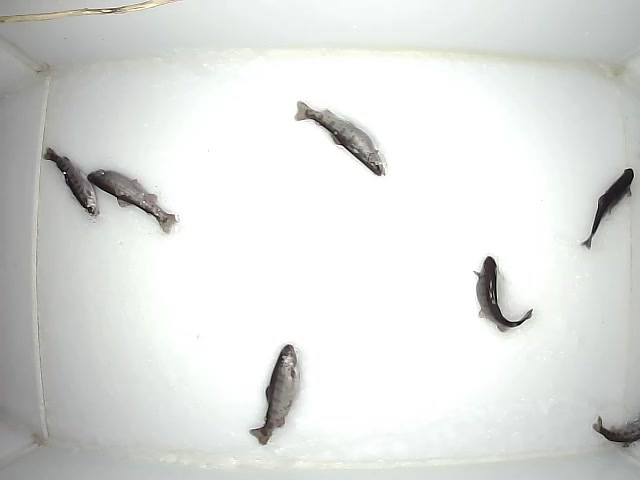fish: (293, 98, 387, 178), (86, 168, 179, 235), (246, 342, 298, 446), (471, 256, 535, 333), (578, 167, 635, 252), (41, 146, 99, 219)
